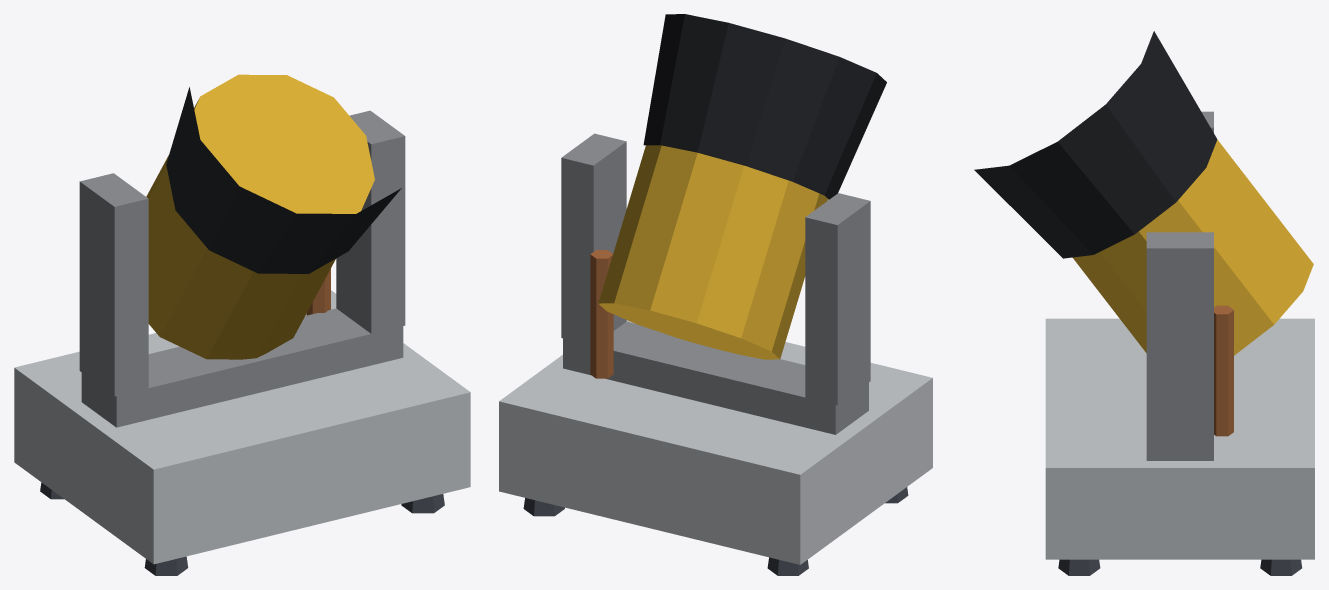
File: comm-dsoc-laser.glb
3 renders of one model, left to right at view 1: azimuth 30°, elevation 25°; view 2: azimuth 150°, elevation 25°; view 3: azimuth 270°, elevation 25°, orthographic. The views are drawn at different scales.
Parts seen in each view (by area): view 1: CommDsocLaser_Aluminum, CommDsocLaser_Titanium, CommDsocLaser_FoilGold, CommDsocLaser_HullBlack, CommDsocLaser_Strap; view 2: CommDsocLaser_Aluminum, CommDsocLaser_Titanium, CommDsocLaser_FoilGold, CommDsocLaser_HullBlack, CommDsocLaser_Copper, CommDsocLaser_Strap; view 3: CommDsocLaser_Aluminum, CommDsocLaser_HullBlack, CommDsocLaser_FoilGold, CommDsocLaser_Titanium, CommDsocLaser_Copper, CommDsocLaser_Strap.
Boxes of the visible parts, <box> form: CommDsocLaser_Aluminum: <box>14,290,470,564</box>; CommDsocLaser_Titanium: <box>79,110,405,427</box>; CommDsocLaser_FoilGold: <box>146,74,374,359</box>; CommDsocLaser_HullBlack: <box>166,87,401,273</box>; CommDsocLaser_Strap: <box>40,482,444,575</box>; CommDsocLaser_Aluminum: <box>499,320,932,564</box>; CommDsocLaser_Titanium: <box>561,133,870,434</box>; CommDsocLaser_FoilGold: <box>598,145,828,359</box>; CommDsocLaser_HullBlack: <box>643,14,886,199</box>; CommDsocLaser_Copper: <box>590,250,613,378</box>; CommDsocLaser_Strap: <box>523,487,908,575</box>; CommDsocLaser_Aluminum: <box>1045,318,1314,559</box>; CommDsocLaser_HullBlack: <box>974,31,1217,258</box>; CommDsocLaser_FoilGold: <box>1072,140,1313,355</box>; CommDsocLaser_Titanium: <box>1146,111,1213,460</box>; CommDsocLaser_Copper: <box>1214,305,1233,436</box>; CommDsocLaser_Strap: <box>1058,559,1302,575</box>.
Bounding box in the file's own units: 0.42 × 0.6258 × 0.4206.
